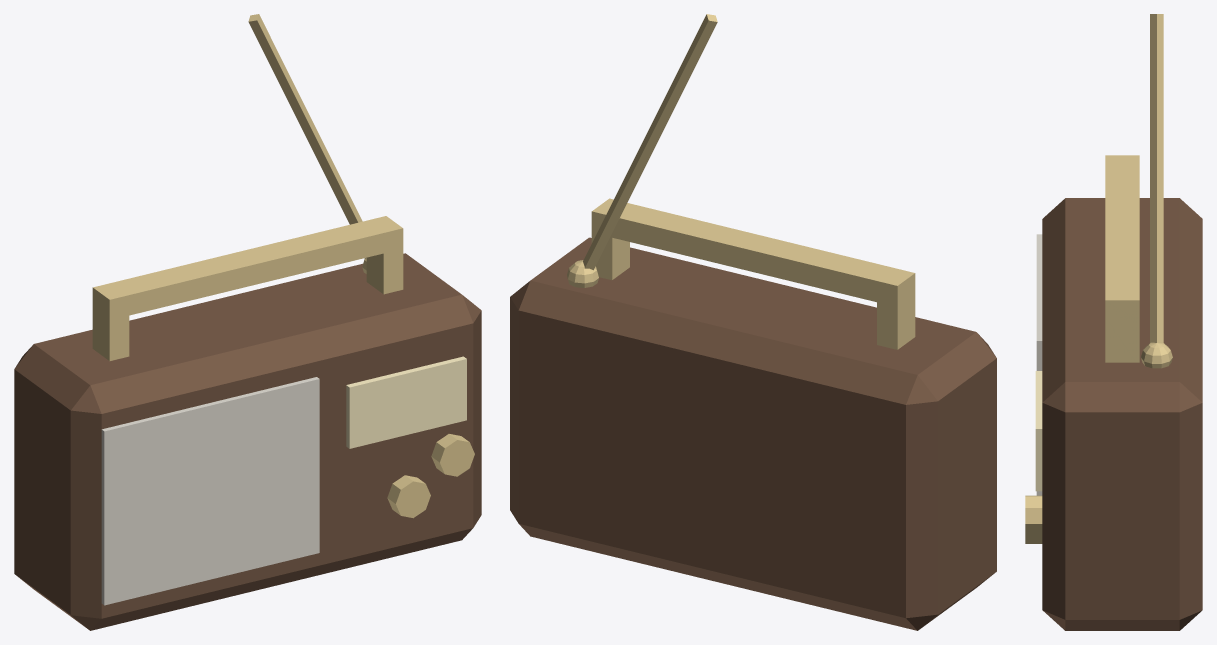
File: radio.glb
3 views of the same model, side by side, from view 1: azimuth 30°, elevation 25°; view 2: azimuth 150°, elevation 25°; view 3: azimuth 270°, elevation 25° (orthographic). The views are drawn at different scales.
Visible parts, largest first — view 1: radio; view 2: radio; view 3: radio.
Part boxes in pixels (<box>): radio: <box>14,14,481,630</box>; radio: <box>510,14,996,630</box>; radio: <box>1025,14,1202,630</box>.
Bounding box in the file's own units: 0.42 × 0.5194 × 0.155.
